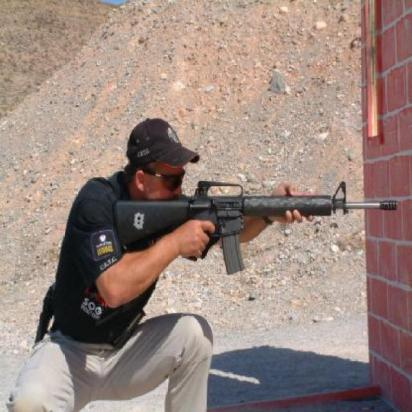Gun: (104, 160, 406, 286)
